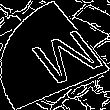M_SE: (11, 21, 99, 89)
